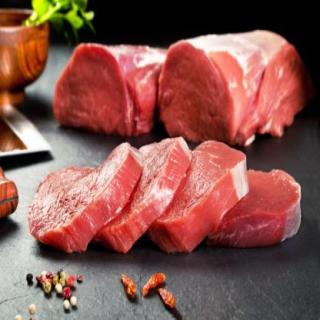Daging Sapi: (29, 141, 303, 259), (160, 33, 304, 140), (26, 149, 141, 259), (161, 140, 249, 257), (54, 45, 161, 136), (214, 171, 305, 242)
